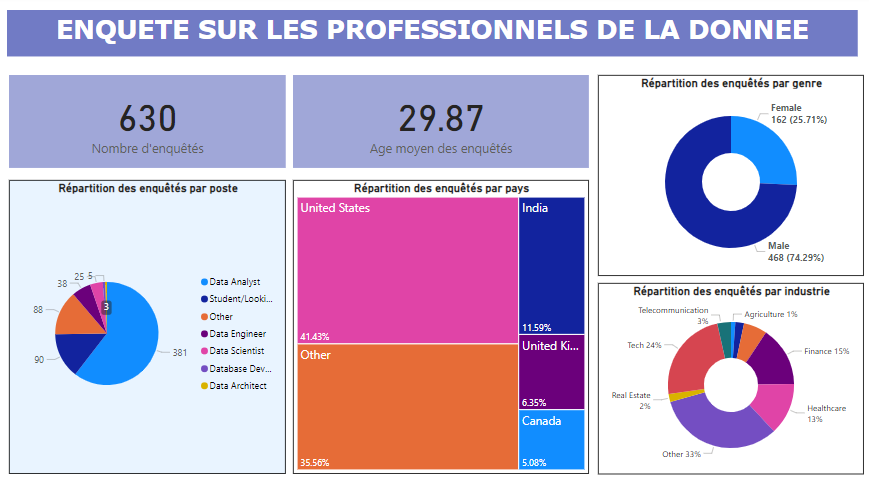

Layout of this report page (visuals, bound fields, positions):
{"tool":"powerbi","page":{"name":"Statistiques descriptives","canvas":[1280,720],"ordinal":0},"visuals":[{"type":"donutChart","title":"Répartition des enquêtés par industrie","fields":{"Y":["CountNonNull(Data Professional Survey.Identifiant)"],"Series":["Data Professional Survey.Q4 - Industrie?"]},"box":[881,420,389.3,279.5],"z":5000},{"type":"donutChart","title":"Répartition des enquêtés par genre","fields":{"Y":["CountNonNull(Data Professional Survey.Identifiant)"],"Series":["Data Professional Survey.Q9 - Masculin/Féminin ?"]},"box":[881,115.6,389.3,294.1],"z":6000},{"type":"treemap","title":"Répartition des enquêtés par pays","fields":{"Details":["Data Professional Survey.Q11 - Dans quel pays habité vous?"],"Values":["CountNonNull(Data Professional Survey.Identifiant)"]},"box":[434.6,269.3,433.2,430.2],"z":6031},{"type":"pieChart","title":"Répartition des enquêtés par poste","fields":{"Category":["Data Professional Survey.Q1 - Position Actuel"],"Y":["CountNonNull(Data Professional Survey.Salaire Moyen)"]},"box":[19,269.3,405.4,430.2],"z":6062},{"type":"card","fields":{"Values":["Count(Data Professional Survey.Identifiant)"]},"box":[19,115.6,405.4,136.1],"z":6125},{"type":"card","fields":{"Values":["Avg(Data Professional Survey.Q10 - Age)"]},"box":[434.6,115.6,433.2,136.1],"z":6250},{"type":"textbox","box":[16.5,20.6,1244.9,68.1],"z":6500}]}

Visuals, with their boxes in screenshot pixels (x1, y1, x2, y2), scaled from the page's 1280x720 canvas onto the 869x483 screenshot:
"Répartition des enquêtés par industrie" donutChart: [x1=598, y1=282, x2=862, y2=469]
"Répartition des enquêtés par genre" donutChart: [x1=598, y1=78, x2=862, y2=275]
"Répartition des enquêtés par pays" treemap: [x1=295, y1=181, x2=589, y2=469]
"Répartition des enquêtés par poste" pieChart: [x1=13, y1=181, x2=288, y2=469]
card - Count(Data Professional Survey.Identifiant): [x1=13, y1=78, x2=288, y2=169]
card - Avg(Data Professional Survey.Q10 - Age): [x1=295, y1=78, x2=589, y2=169]
textbox: [x1=11, y1=14, x2=856, y2=60]
